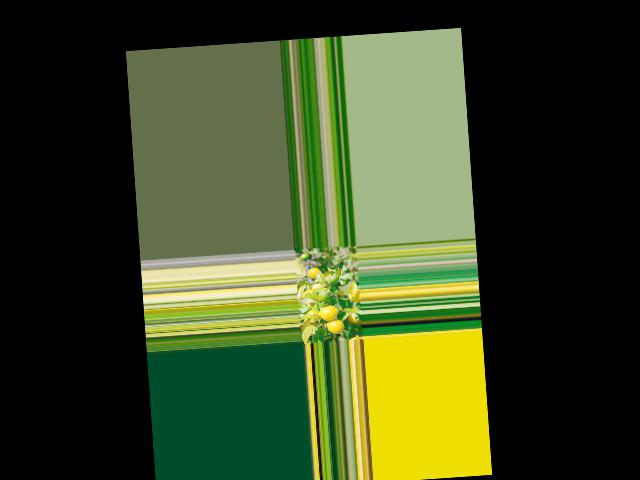lemon: (306, 264, 324, 279)
